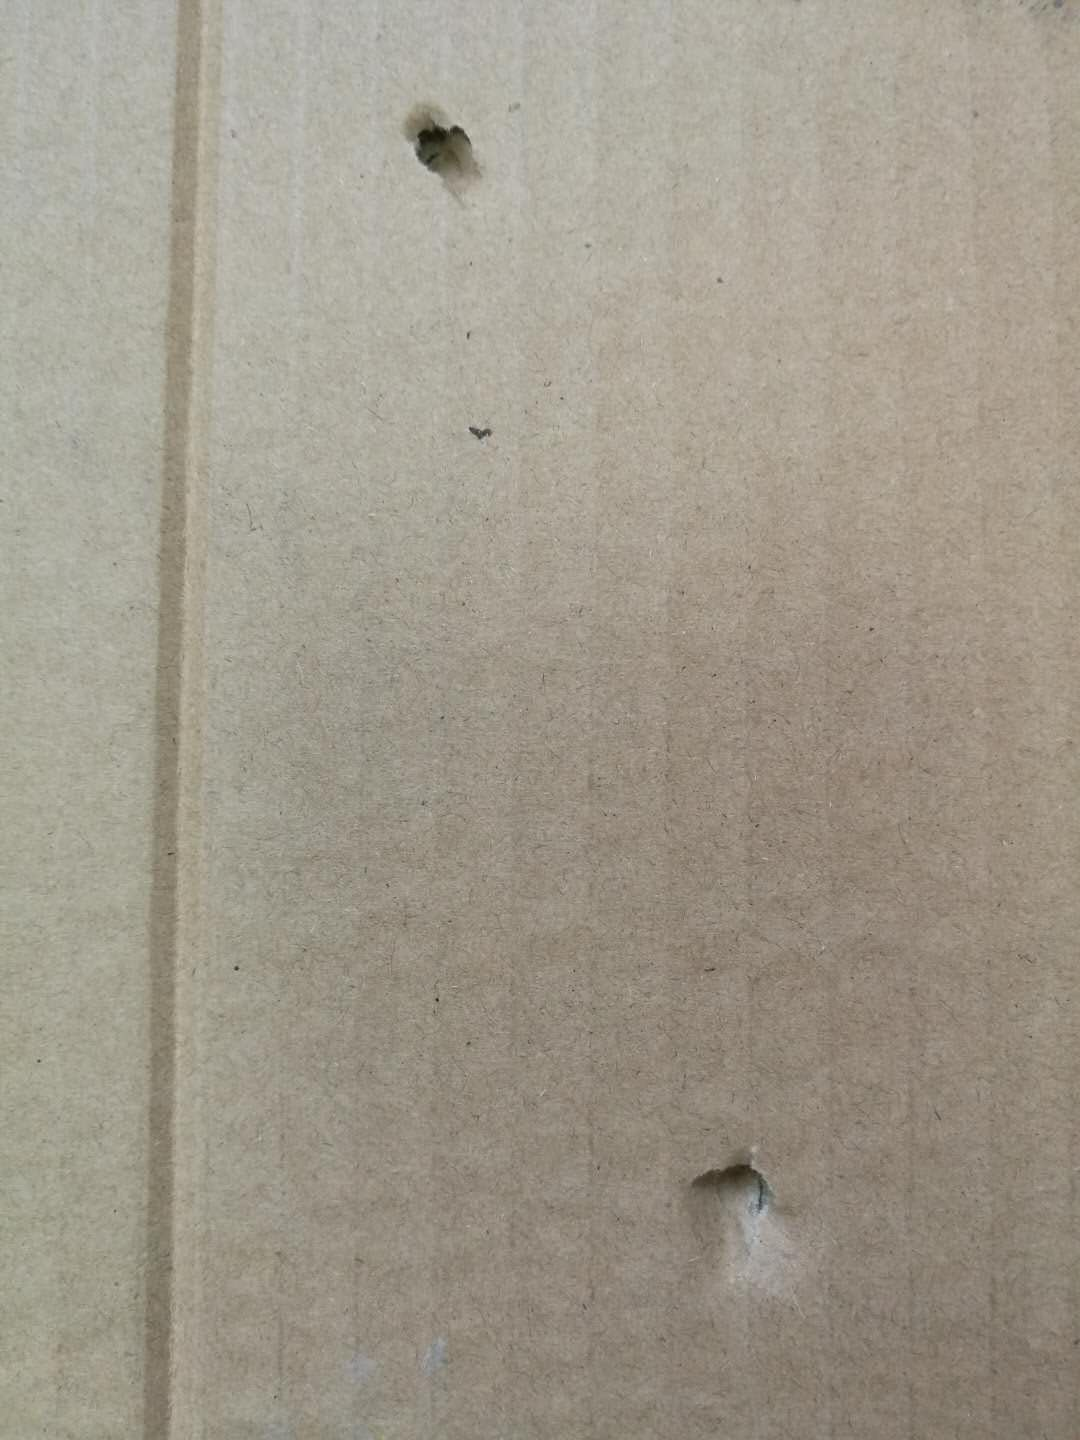defect: (106, 5, 273, 1439), (651, 1125, 828, 1321), (372, 78, 508, 225)
